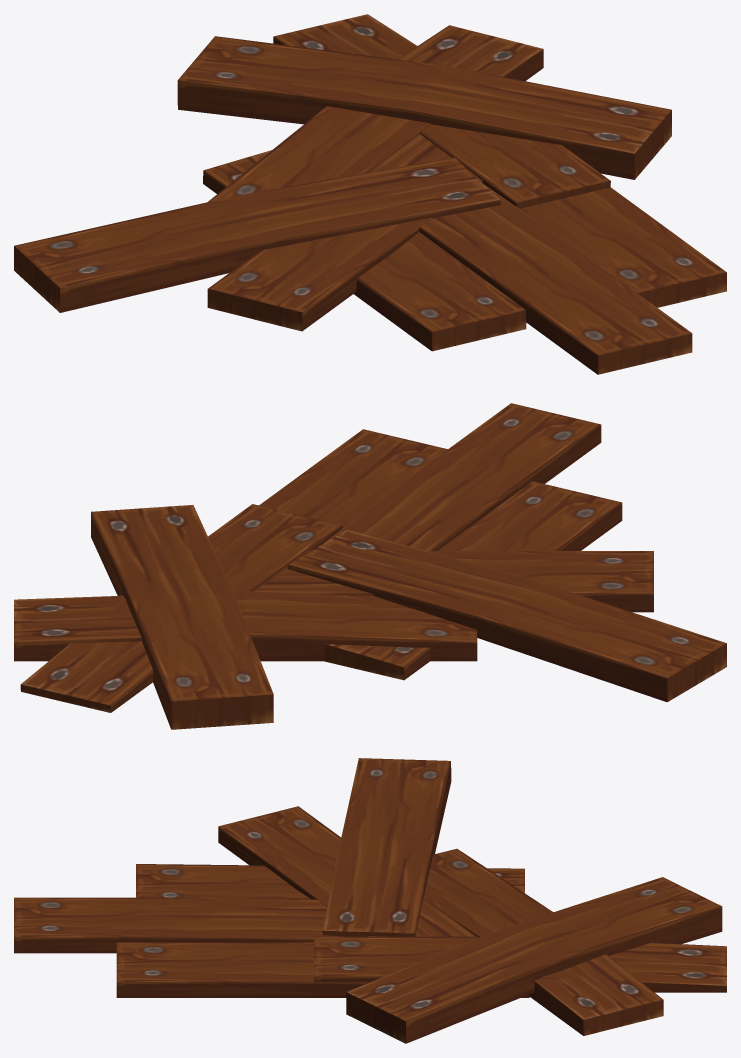
The model's file is Muban01.FBX.
3 renders of one model, top to bottom at view 1: azimuth 30°, elevation 25°; view 2: azimuth 150°, elevation 25°; view 3: azimuth 270°, elevation 25°, orthographic. The views are drawn at different scales.
Parts seen in each view (by area): view 1: MuBan01; view 2: MuBan01; view 3: MuBan01.
Part boxes in pixels (x1,y1,x2,y2): MuBan01: [14, 14, 726, 374]; MuBan01: [14, 403, 726, 729]; MuBan01: [14, 758, 726, 1043].
Bounding box in the file's own units: 180 × 10.29 × 205.
